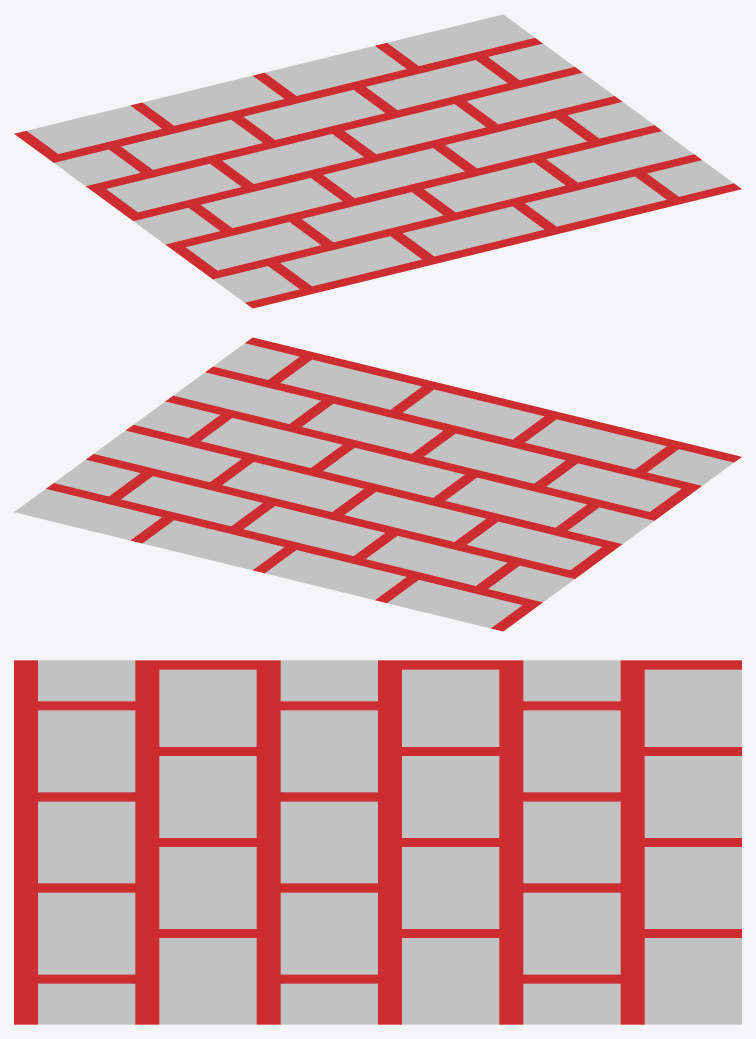
Rendered from tilingBrickshigh.fbx.
3 renders of one model, top to bottom at view 1: azimuth 30°, elevation 25°; view 2: azimuth 150°, elevation 25°; view 3: azimuth 270°, elevation 25°, orthographic. The views are drawn at different scales.
Visible parts, largest first — view 1: HighPOLYPlane.001; view 2: HighPOLYPlane.001; view 3: HighPOLYPlane.001.
Part boxes in pixels (x1,y1,x2,y2): HighPOLYPlane.001: (14,14,741,308); HighPOLYPlane.001: (14,337,741,631); HighPOLYPlane.001: (14,660,741,1024).
Bounding box in the file's own units: 2 × 0 × 1.69.
